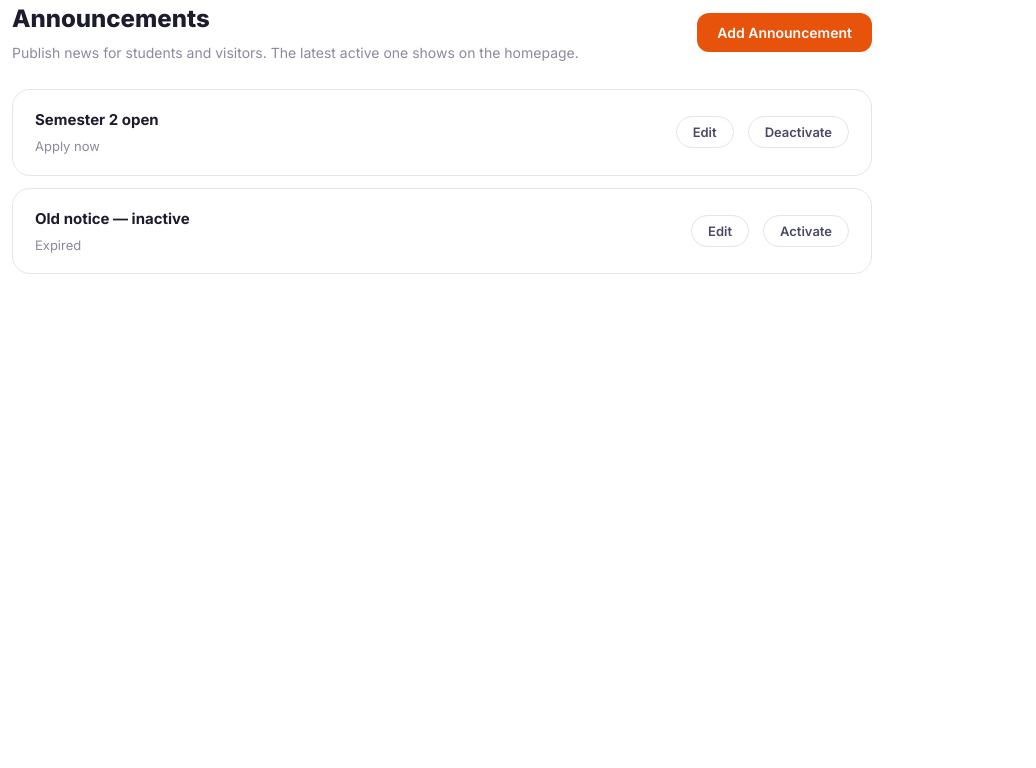
Scenario: opens create form and prefilled edit form
Expected: the text "Semester 2 open" is shown, x1=35 y1=108 x2=159 y2=132
Click the button "Add Announcement" at (785, 32), box x1=697 y1=13 x2=872 y2=52
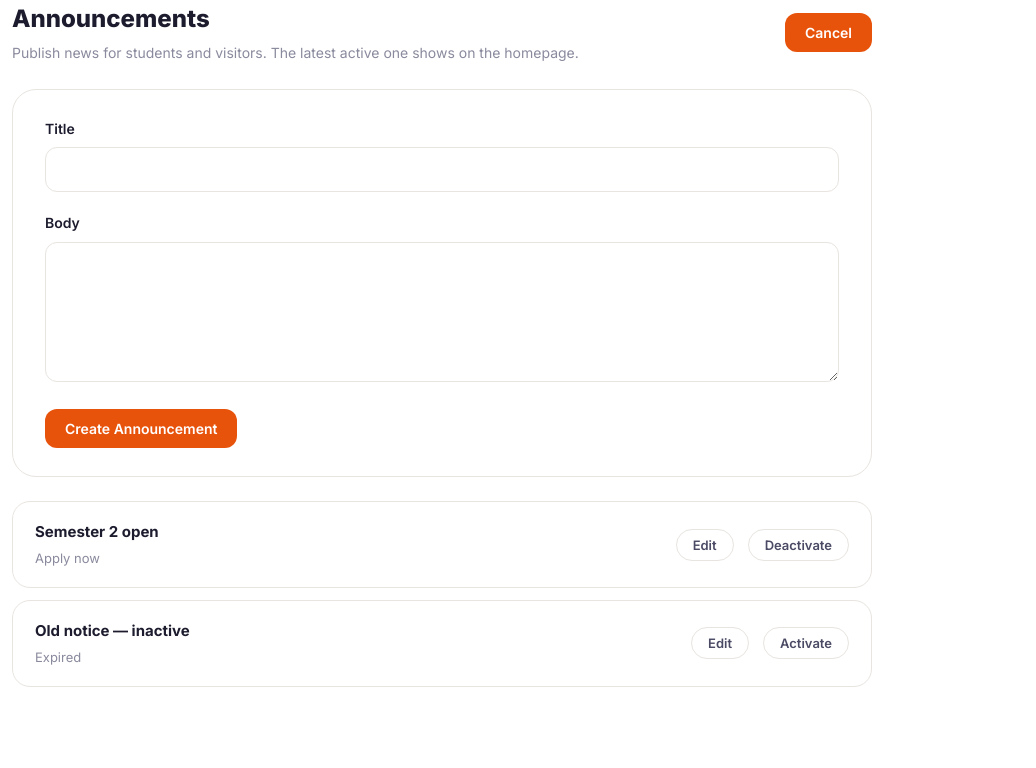
Result: the button "Create Announcement" is shown at x1=45 y1=409 x2=237 y2=448
Click the button "Edit" in the row of "Semester 2 open" at (705, 544), box x1=676 y1=528 x2=734 y2=560
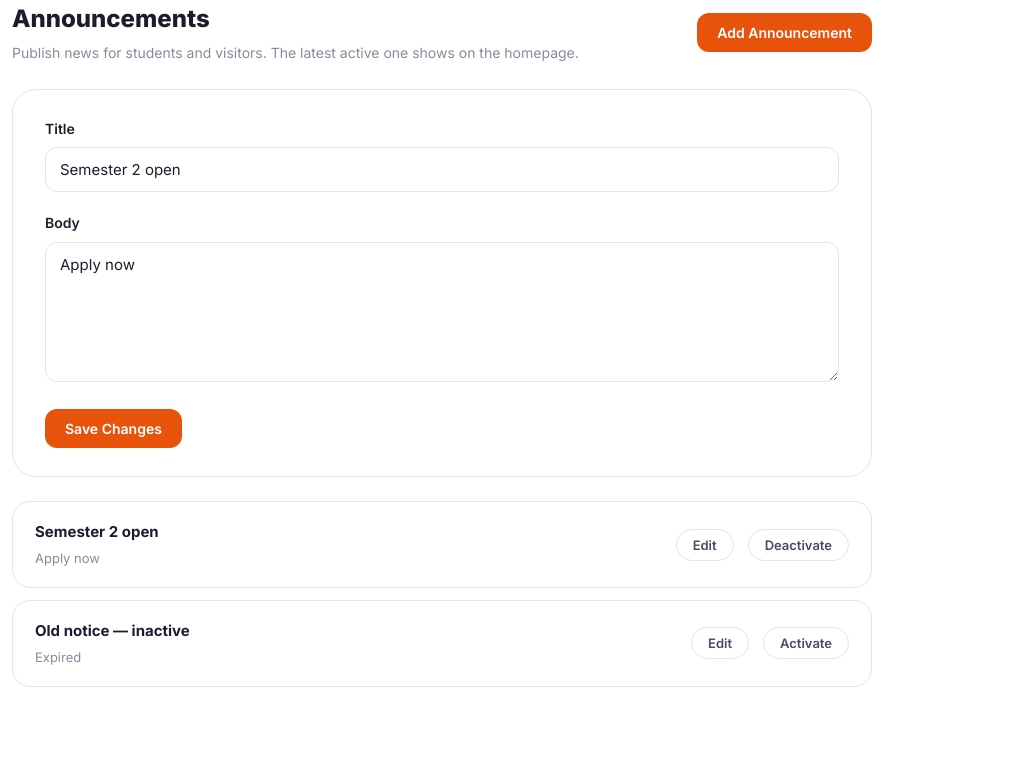
Result: the field showing "Semester 2 open" is shown at x1=45 y1=147 x2=839 y2=192
Result: the button "Save Changes" is shown at x1=45 y1=409 x2=182 y2=448
